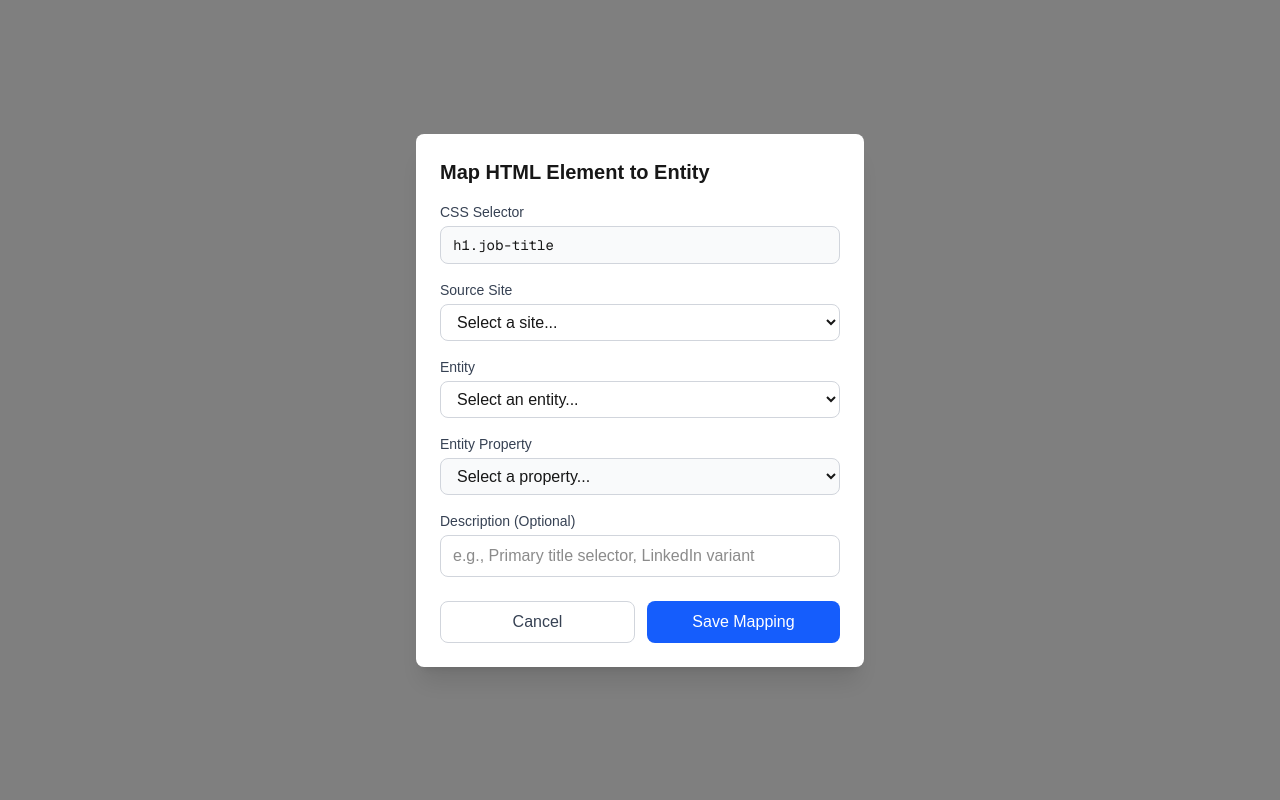
Test: ValueMappingDialog › form submission › should validate all required fields before submission
Note: Try to submit without filling fields
Click the button "Save Mapping".
click(744, 622)  # box top-left (647, 600), bottom-right (840, 642)
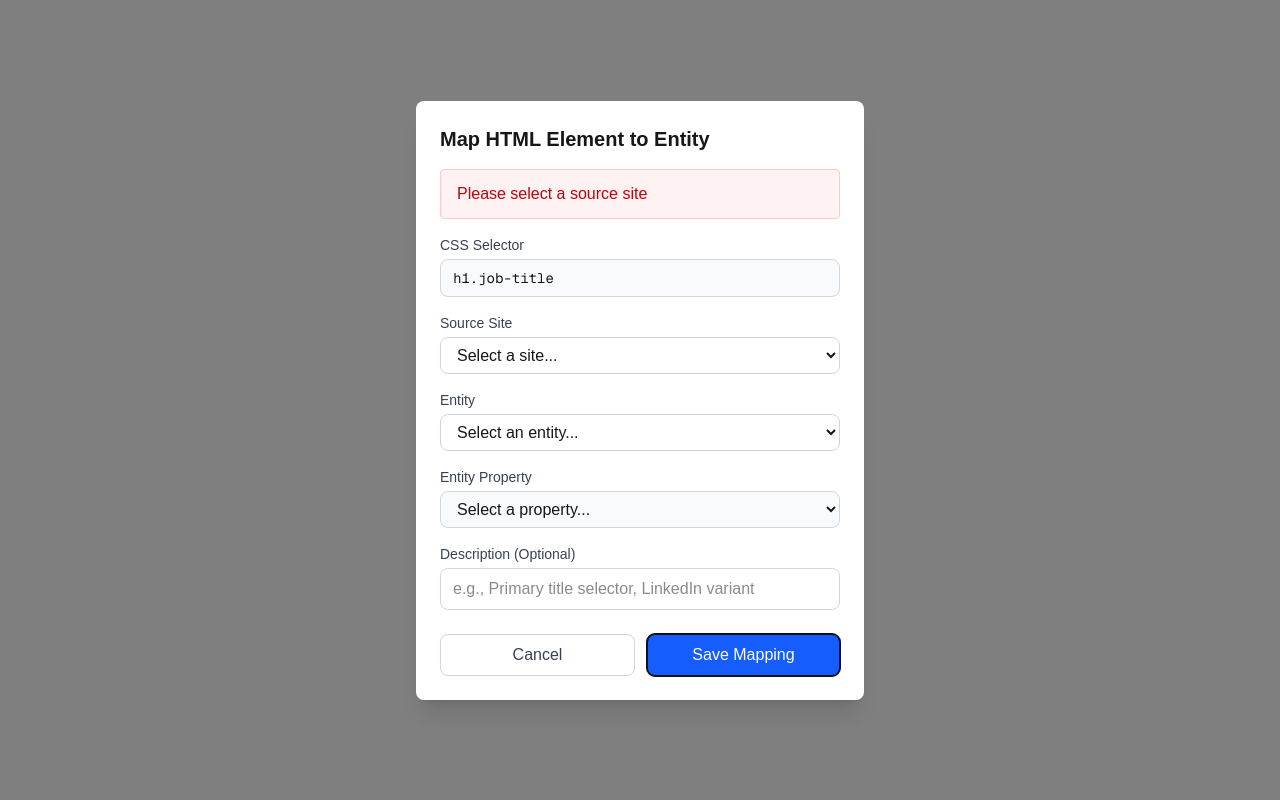
Check: the text "Please select a source site" is shown, box top-left (440, 168), bottom-right (840, 218)
